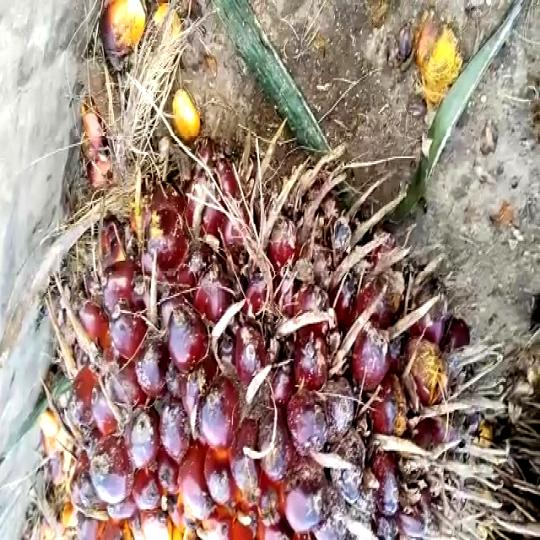kurang masak: (61, 176, 456, 540)
